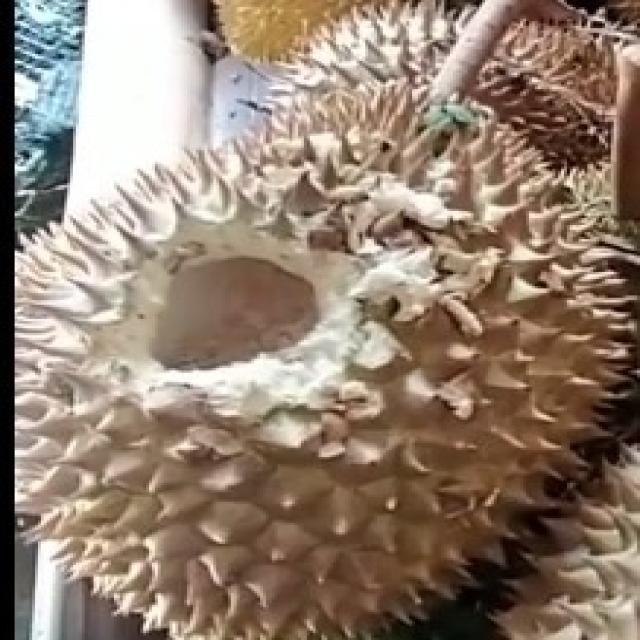defective: (11, 98, 640, 634)
